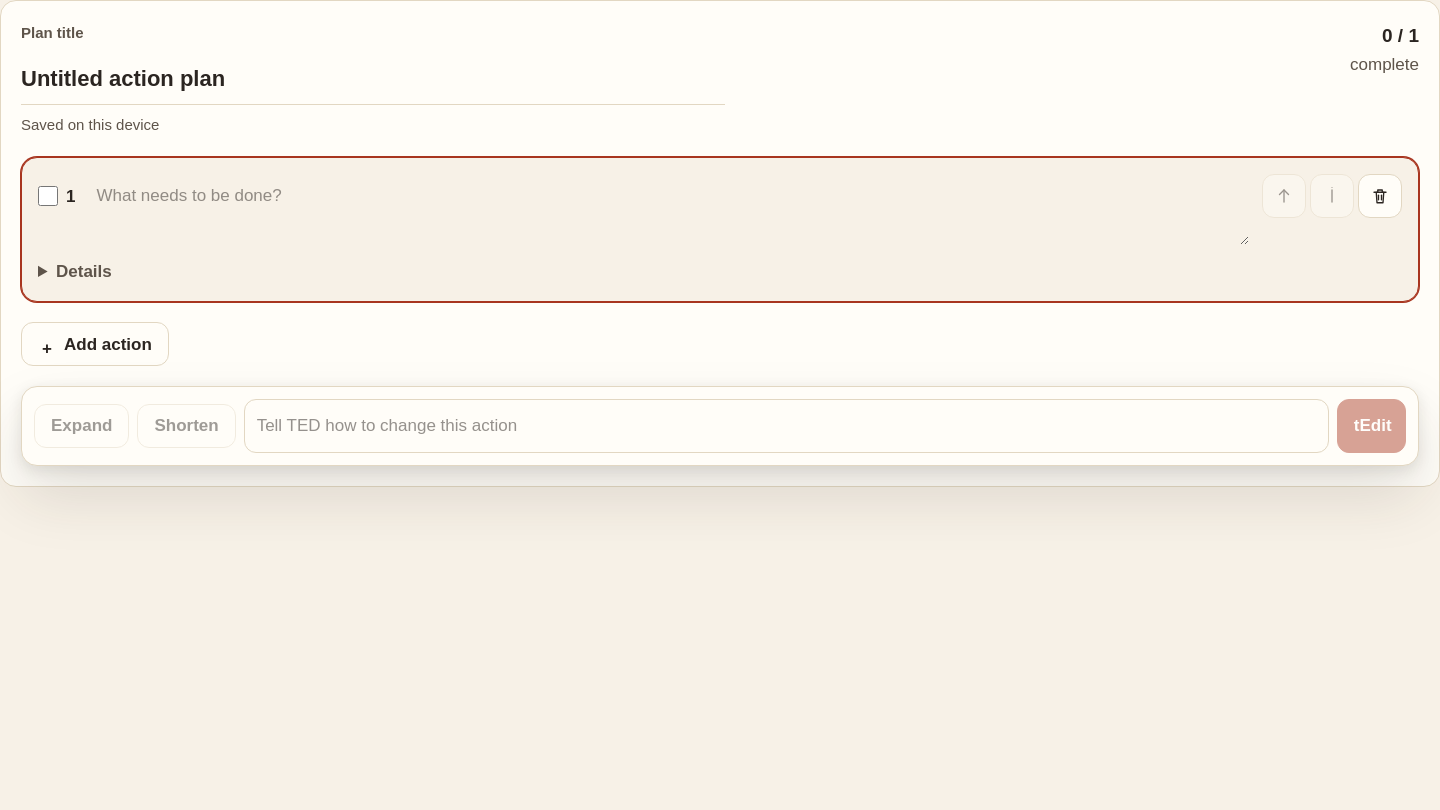
Test case: ManualPlanEditor recovery controls › retires Undo when newer typing replaces the deleted final action
Type "Deleted wording" into the text box named "Action 1". click: point(669, 210)
box: [88,174,1250,246]
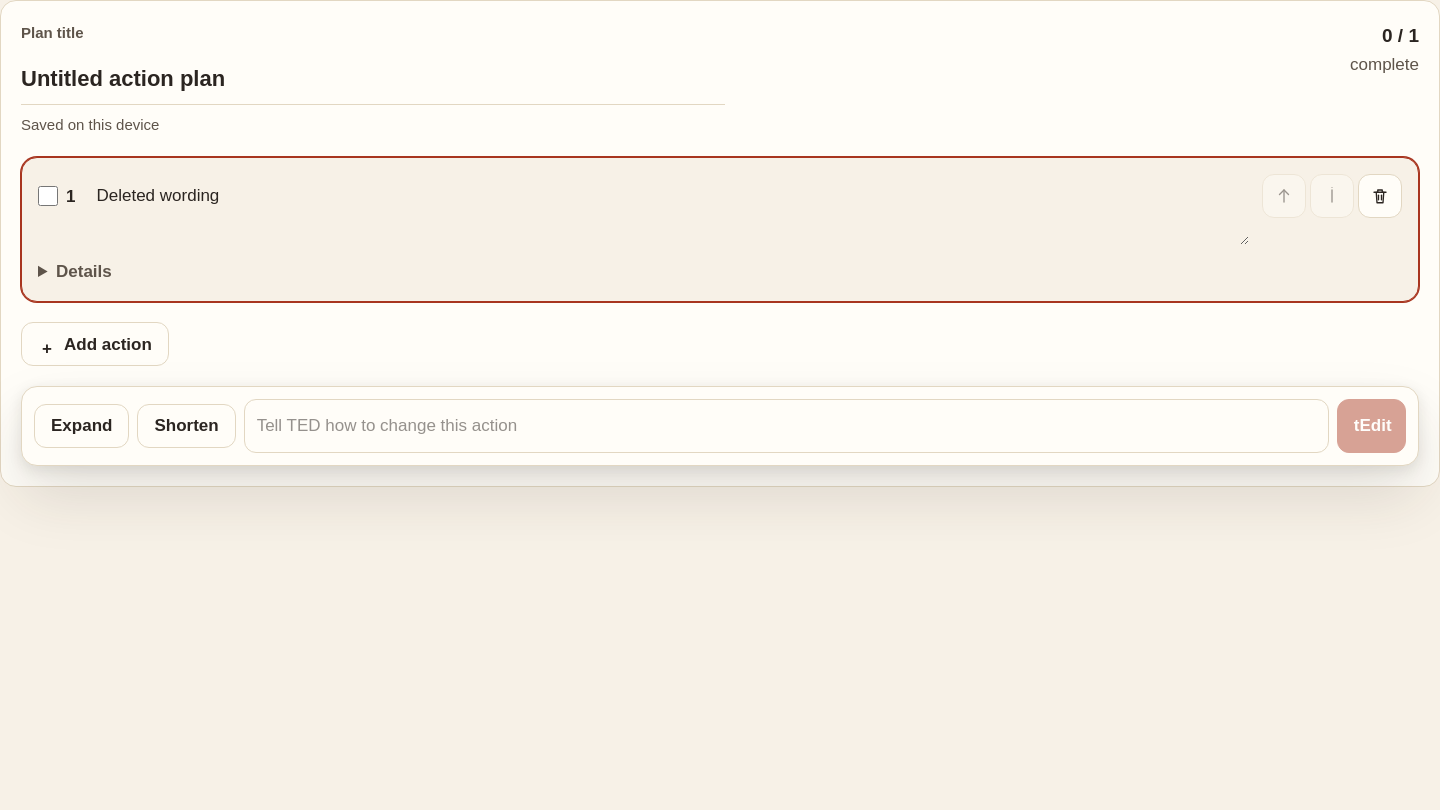
Click the button named "Delete action". click: point(1380, 196)
box: [1358,174,1402,218]
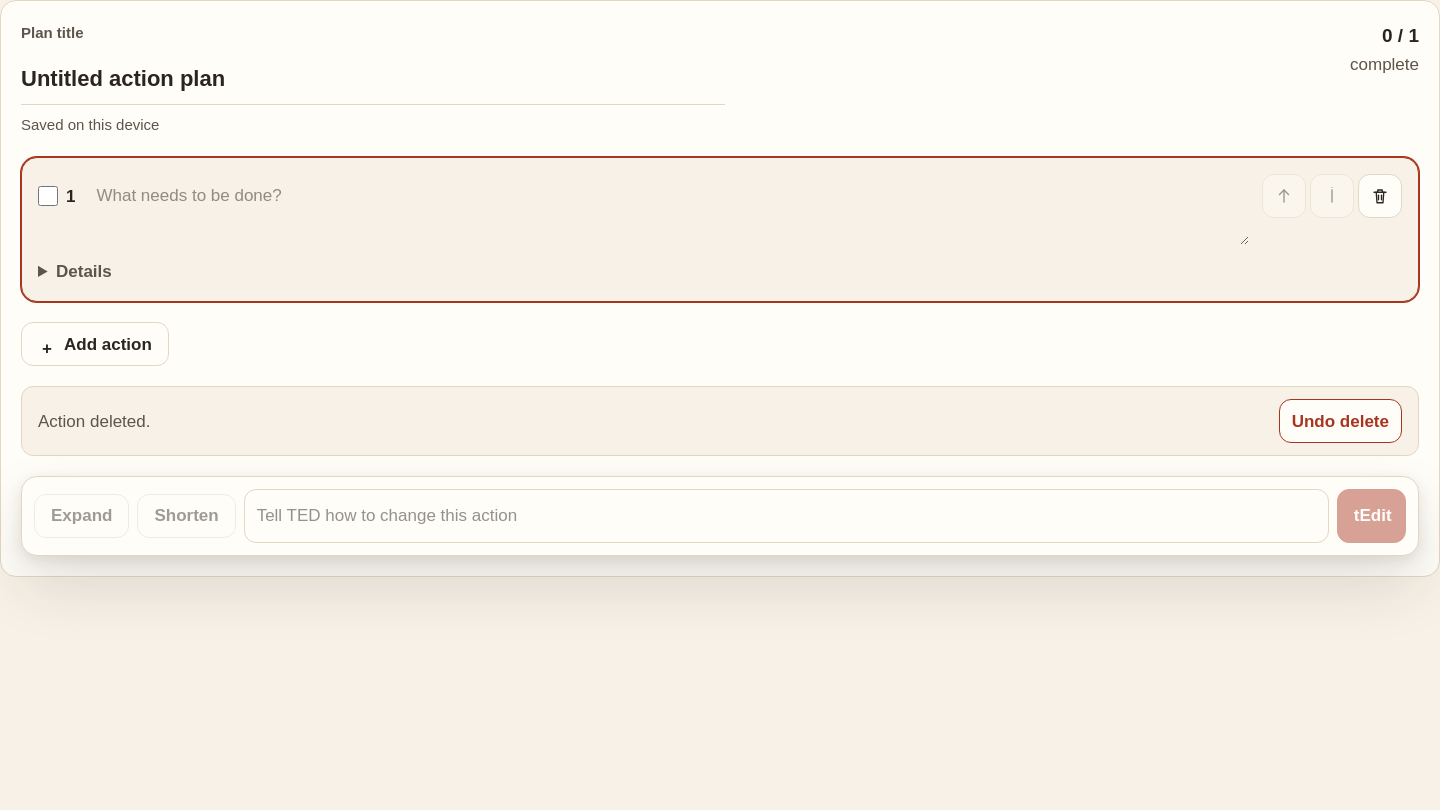
Check: the button "Undo delete" is shown, box [1279,399,1402,443]
Type "My newer replacement" into the text box named "Action 1". click: point(669, 210)
box: [88,174,1250,246]
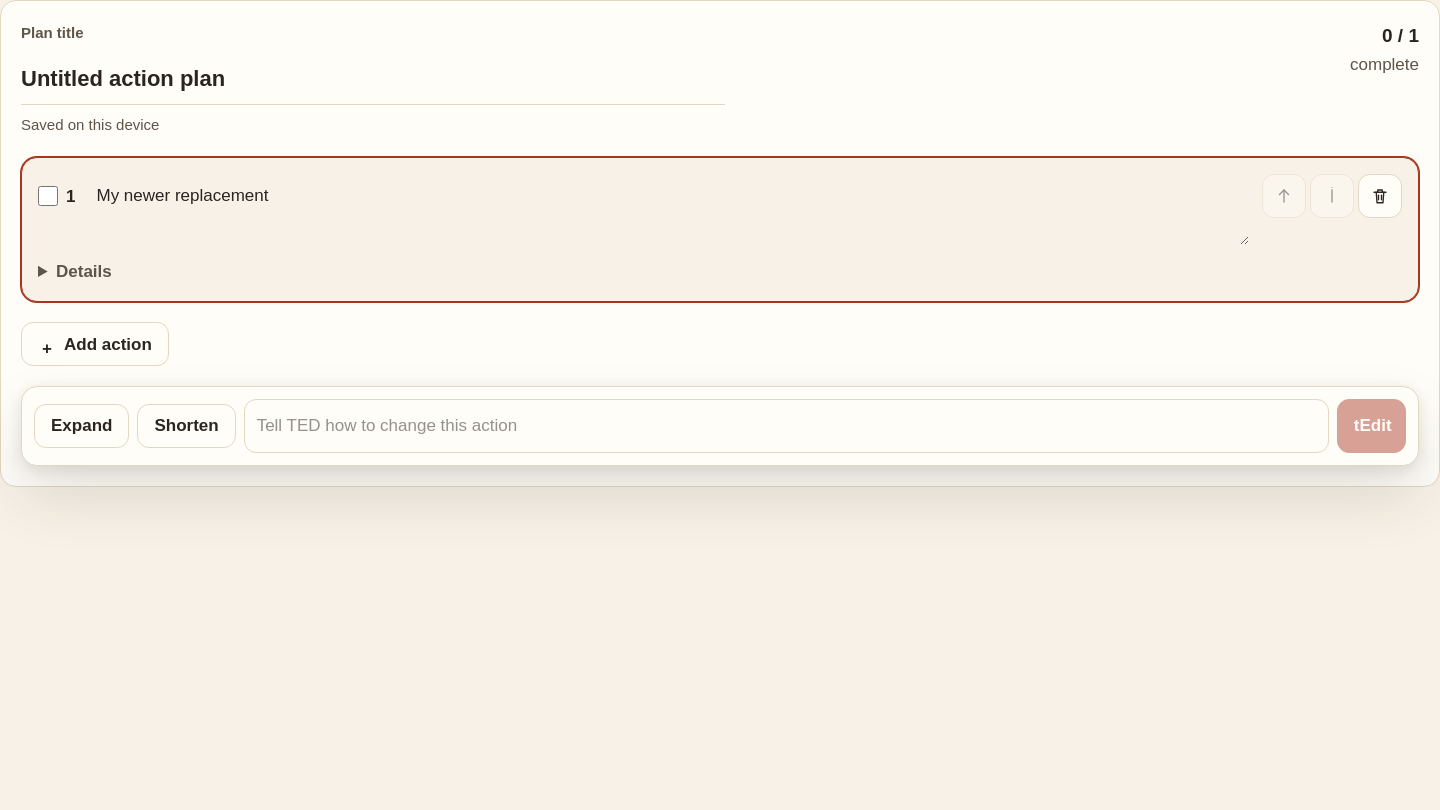
Check: the button "Undo delete" is gone
